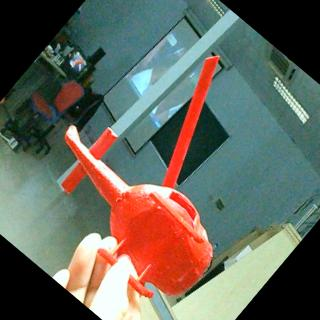Helicopter: (16, 10, 319, 317)
